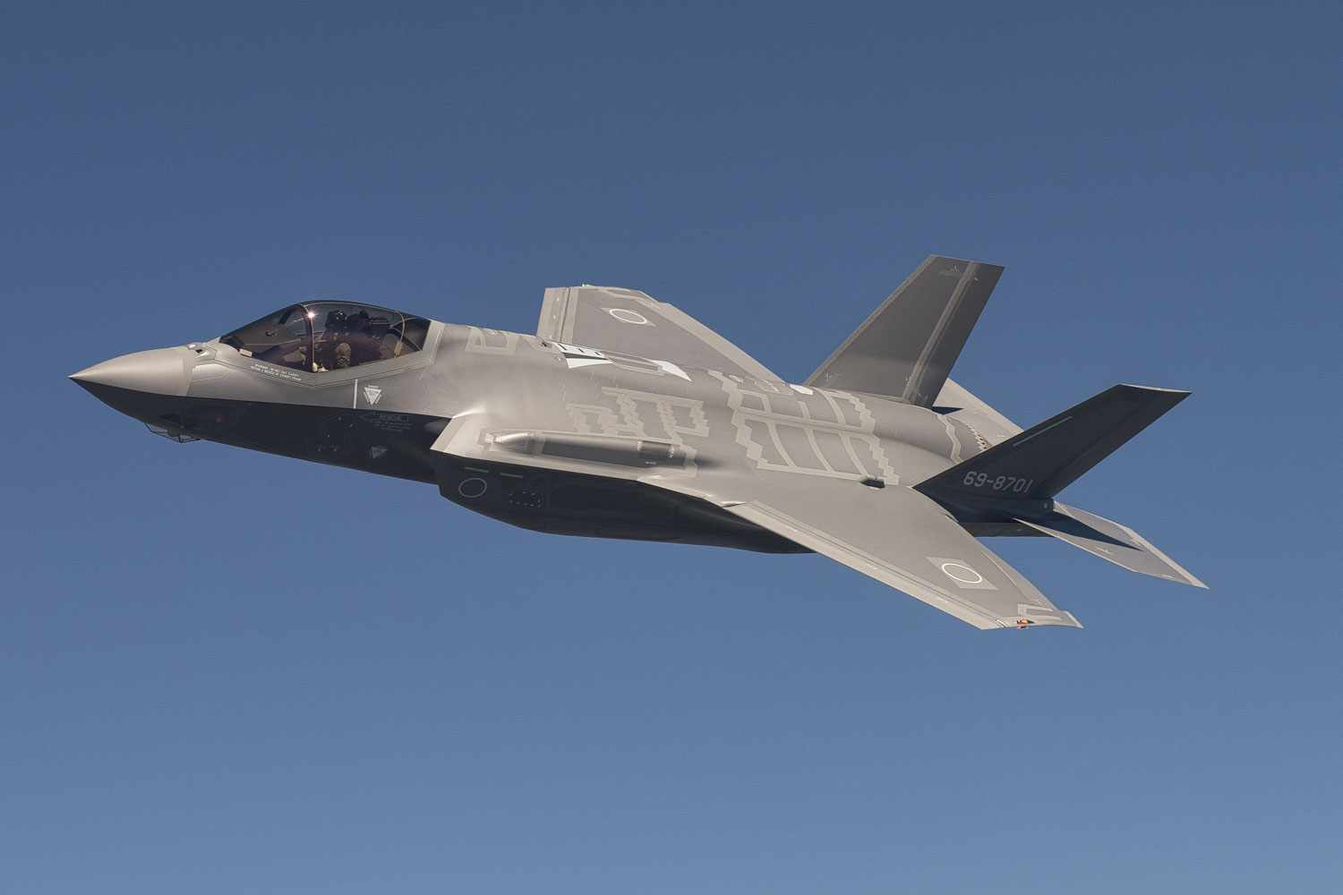F35: (59, 249, 1219, 638)
